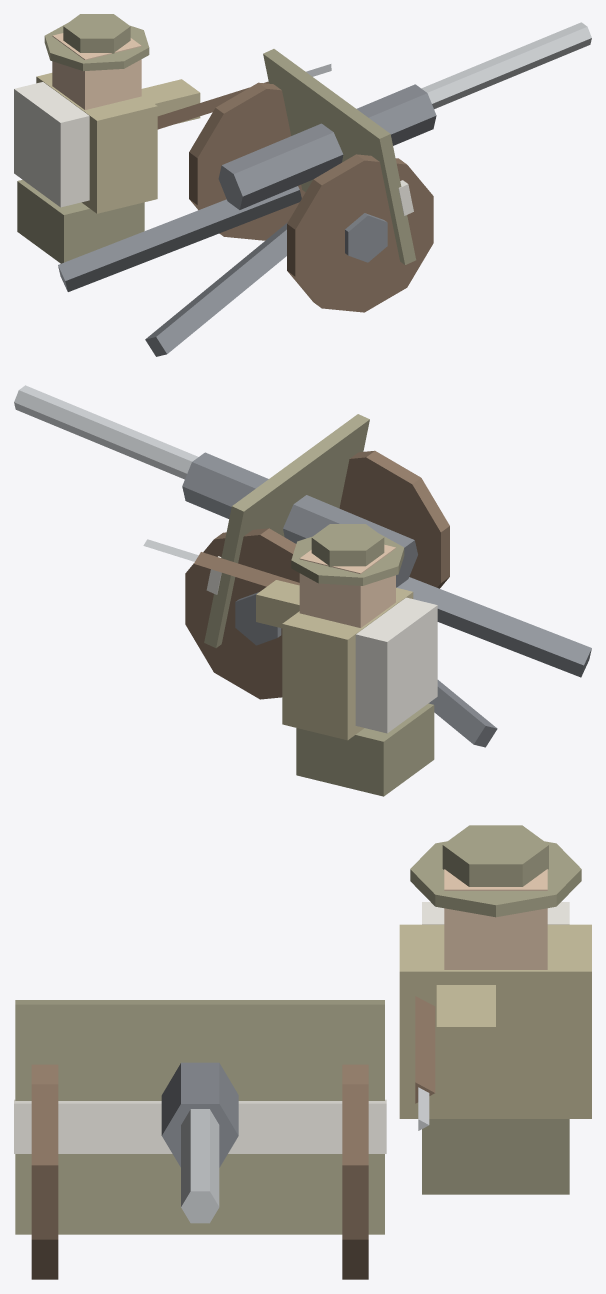
File: formation_back.glb
The picture shows the model from 3 angles, top to bottom: view 1: azimuth 30°, elevation 25°; view 2: azimuth 150°, elevation 25°; view 3: azimuth 270°, elevation 25°; orthographic projection. The views are drawn at different scales.
Parts seen in each view (by area): view 1: industrial_formation_back; view 2: industrial_formation_back; view 3: industrial_formation_back.
Boxes of the visible parts, x1,y1,x2,y2 form: industrial_formation_back: [14, 14, 591, 356]; industrial_formation_back: [14, 385, 591, 796]; industrial_formation_back: [14, 825, 591, 1279].
Bounding box in the file's own units: 0.9995 × 0.418 × 0.6545.
